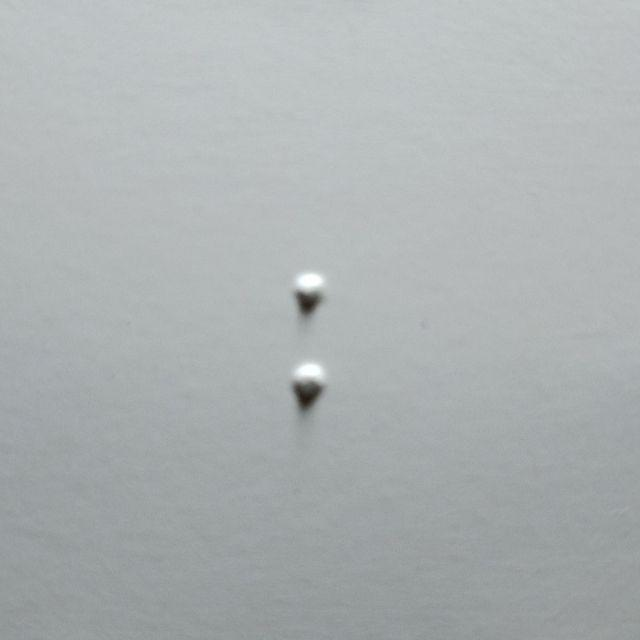k: (290, 269, 384, 410)
